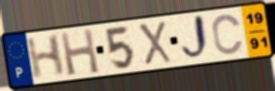5: (103, 23, 137, 71)
C: (211, 13, 246, 56)
H: (58, 26, 102, 77), (25, 33, 67, 82)
J: (180, 12, 212, 63)
X: (136, 20, 174, 67)
